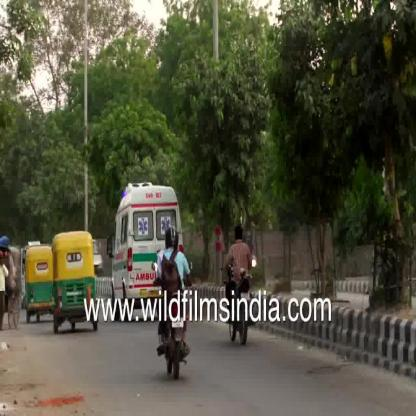auto-rikshaw: (50, 225, 100, 335), (25, 236, 51, 320)
priority: (109, 176, 179, 299)
